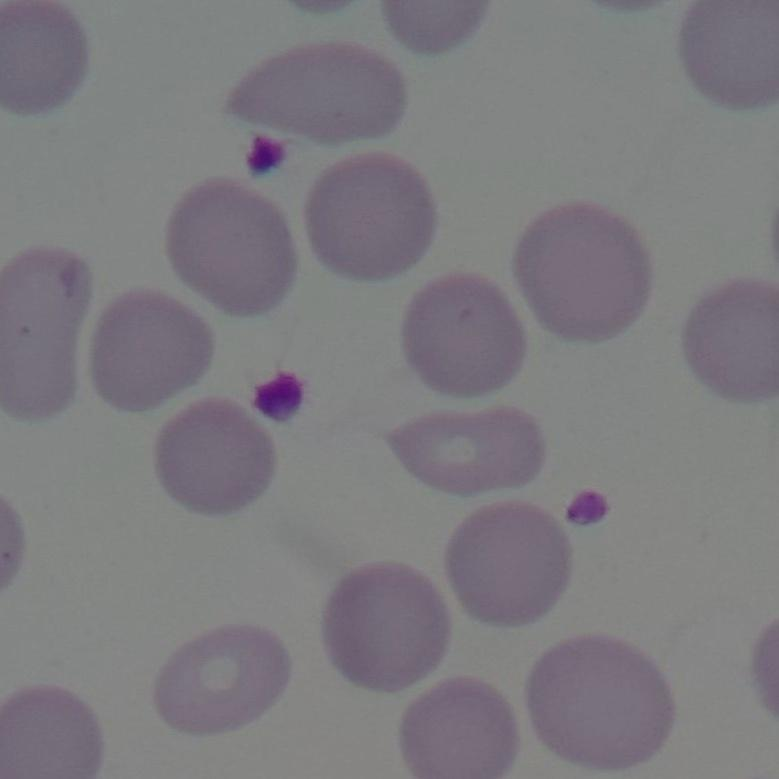Uninfected: (223, 40, 409, 146), (526, 638, 670, 768), (165, 177, 299, 314), (514, 204, 651, 337), (321, 565, 452, 691), (306, 156, 437, 280), (400, 273, 529, 398), (444, 502, 572, 626), (0, 248, 91, 418), (152, 397, 280, 517), (155, 624, 293, 735), (89, 289, 210, 412), (381, 403, 548, 492), (399, 679, 518, 779), (681, 280, 779, 400), (681, 0, 777, 104), (0, 2, 85, 112), (0, 689, 99, 774)
